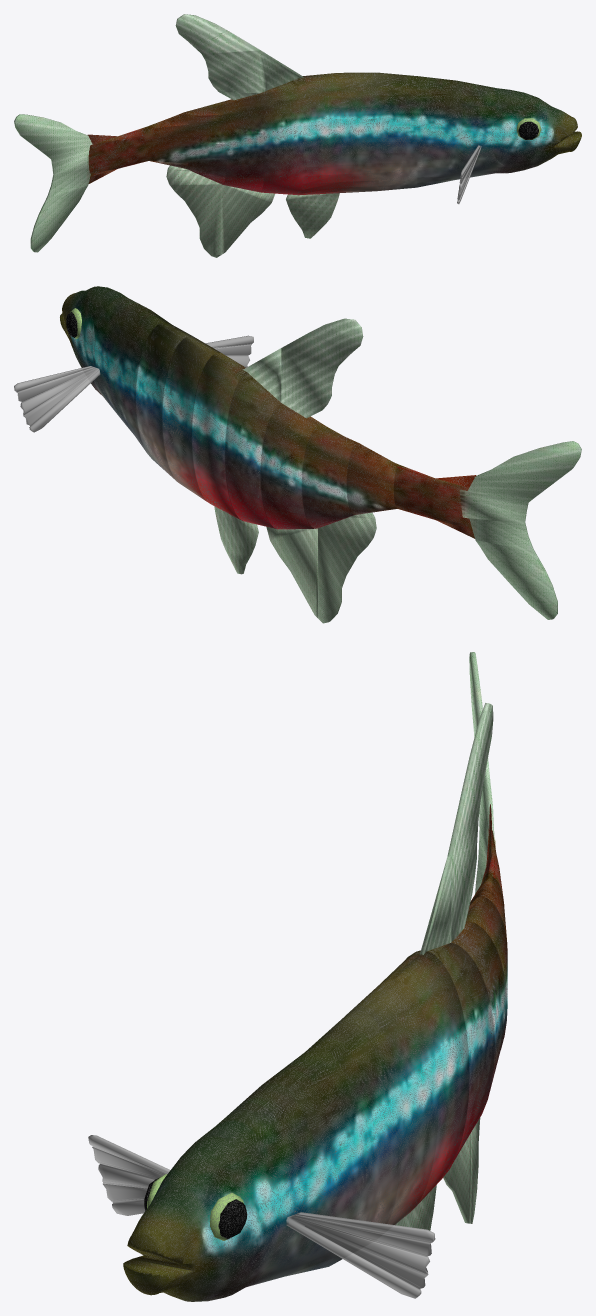
File: neon-tetra.dae
The picture shows the model from 3 angles, top to bottom: view 1: azimuth 30°, elevation 25°; view 2: azimuth 150°, elevation 25°; view 3: azimuth 270°, elevation 25°; orthographic projection. The views are drawn at different scales.
Parts seen in each view (by area): view 1: neon.dxf (×6); view 2: neon.dxf (×7); view 3: neon.dxf (×8).
Part boxes in pixels (box(x1,y1,x2,y2)): neon.dxf (×6): box(14, 14, 581, 257); neon.dxf (×7): box(14, 286, 581, 623); neon.dxf (×8): box(88, 652, 507, 1301).
Size of the model in its own units: 1.48 by 0.5523 by 0.7172.
Materials: 10 (4 with a texture image).
